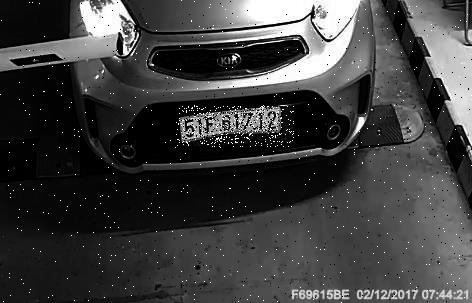License-plate: (178, 108, 296, 149)
